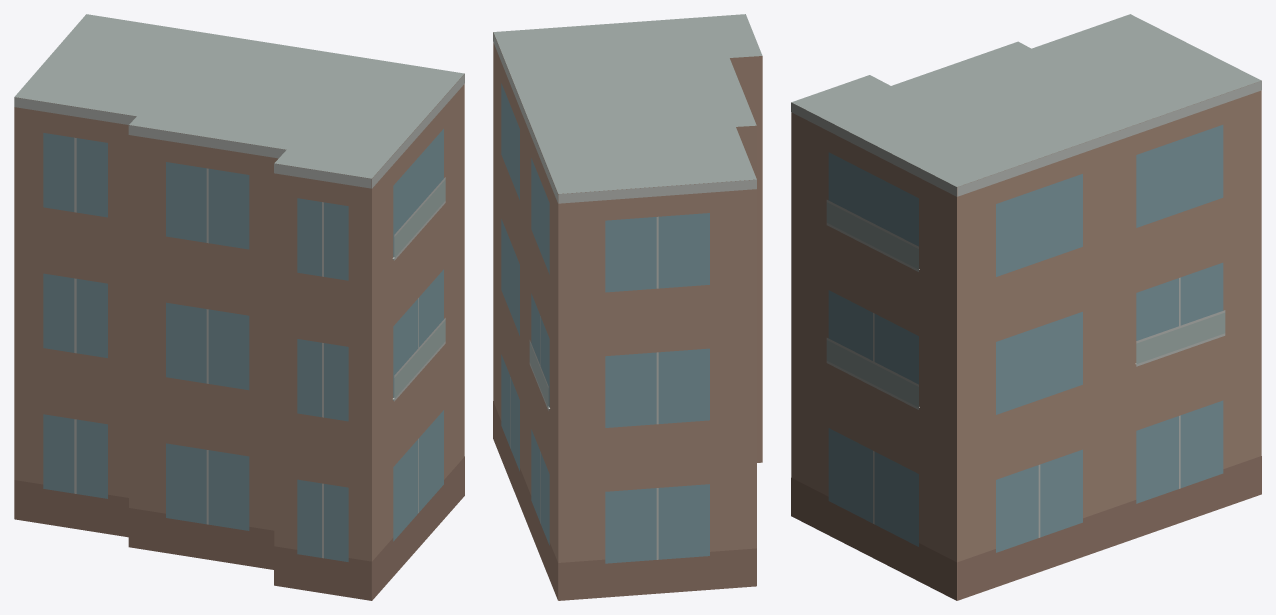
Rendered from survey-upis-32498392.glb.
3 renders of one model, left to right at view 1: azimuth 30°, elevation 25°; view 2: azimuth 150°, elevation 25°; view 3: azimuth 270°, elevation 25°, orthographic. The views are drawn at different scales.
Visible parts, largest first — view 1: survey-upis-32498392.tmp; view 2: survey-upis-32498392.tmp; view 3: survey-upis-32498392.tmp.
Boxes of the visible parts, left/top/right/bottom form: survey-upis-32498392.tmp: left=14, top=14, right=464, bottom=600; survey-upis-32498392.tmp: left=493, top=14, right=762, bottom=600; survey-upis-32498392.tmp: left=791, top=14, right=1261, bottom=600.
Size of the model in its own units: 9.25 by 10.3 by 10.63.
